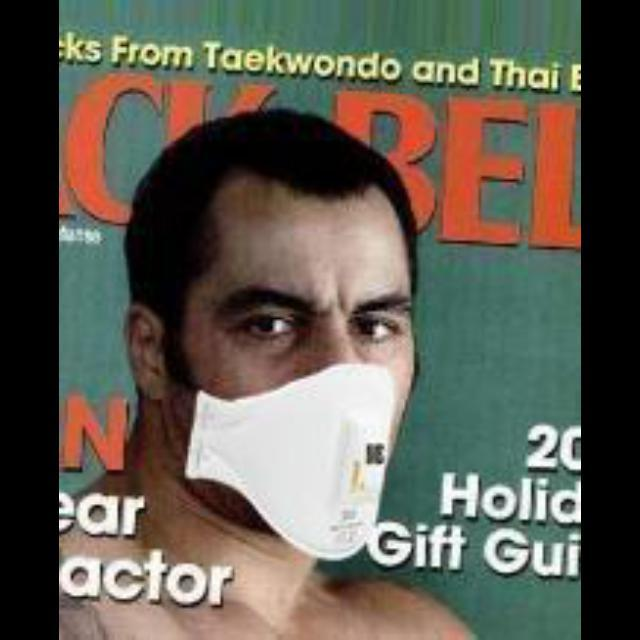suspicion: (134, 141, 442, 557)
